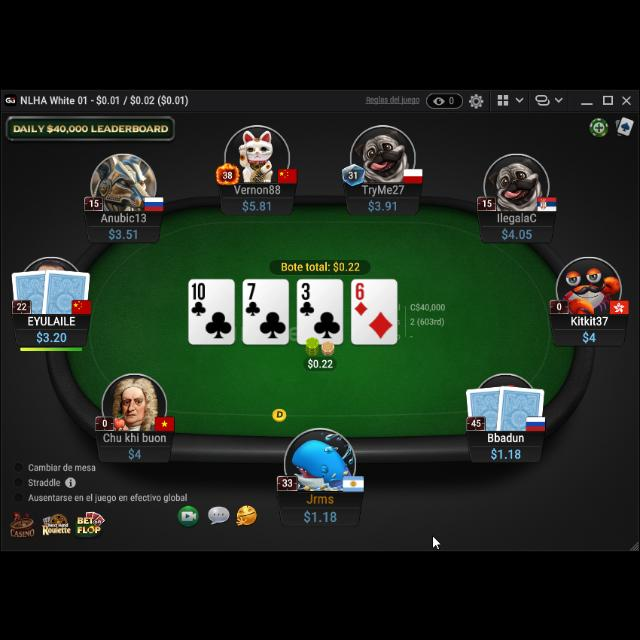3c: (298, 277, 316, 315)
6d: (354, 279, 368, 315)
7c: (244, 278, 262, 314)
8d: (354, 279, 368, 315)
Tc: (191, 278, 209, 316)
bet_text: (306, 354, 334, 366)
card_back: (496, 380, 546, 430), (42, 263, 92, 313), (10, 264, 52, 312), (465, 380, 505, 426)
dealer: (270, 404, 288, 420)
pot_text: (280, 256, 362, 270)
stack_text: (302, 504, 338, 520), (108, 223, 138, 239), (36, 326, 68, 340), (490, 444, 522, 458), (501, 223, 533, 237), (367, 195, 398, 209), (242, 195, 272, 209), (581, 326, 597, 340), (128, 442, 142, 456)
